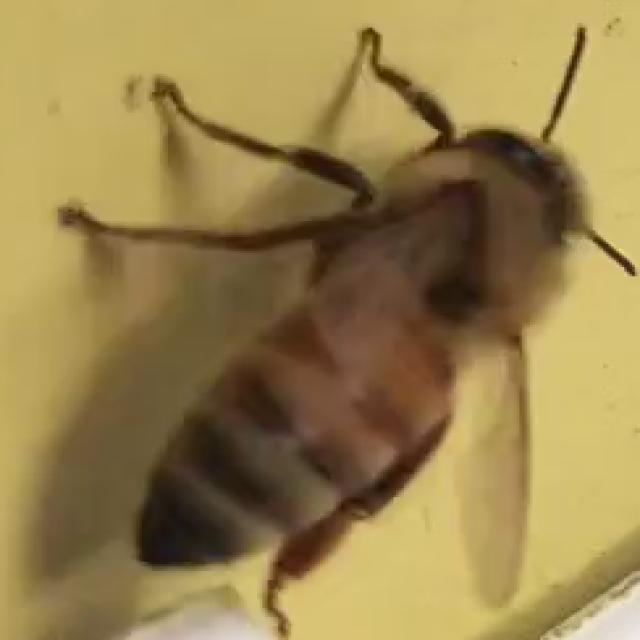honeybee: (130, 53, 592, 640)
